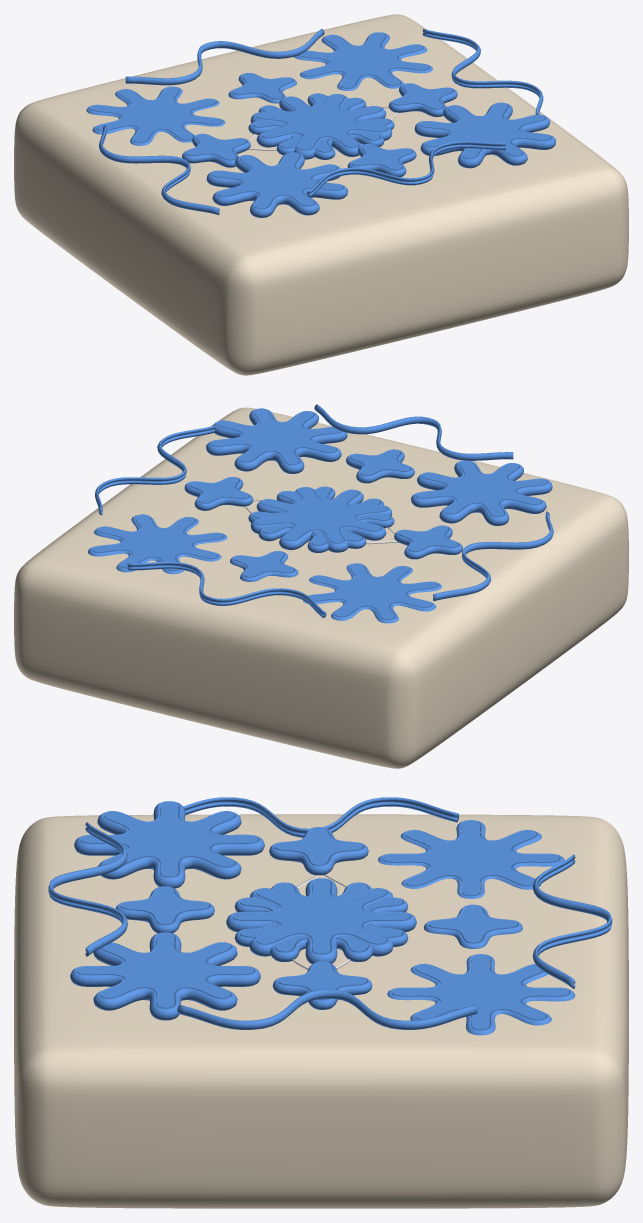
The model's file is seramikdesen1.fbx.
3 renders of one model, top to bottom at view 1: azimuth 30°, elevation 25°; view 2: azimuth 150°, elevation 25°; view 3: azimuth 270°, elevation 25°, orthographic. The views are drawn at different scales.
Visible parts, largest first — view 1: Pillow, Ornate_Pattern.001, Ornate_Pattern.002, Ornate_Pattern, Ornate_Pattern.004, Ornate_Pattern.003, Right_Border, Right_Border.001, Corner_Pattern_2.002, Corner_Pattern_2.003, Left_Border, Right_Border.002 (+6 smaller); view 2: Pillow, Ornate_Pattern.001, Ornate_Pattern.002, Ornate_Pattern, Ornate_Pattern.003, Ornate_Pattern.004, Right_Border.001, Right_Border, Corner_Pattern_2.003, Corner_Pattern_2.004, Corner_Pattern_2.002, Right_Border.002 (+6 smaller); view 3: Pillow, Ornate_Pattern.002, Ornate_Pattern.001, Ornate_Pattern, Ornate_Pattern.003, Ornate_Pattern.004, Right_Border.002, Corner_Pattern_2.003, Left_Border, Corner_Pattern_2.004, Right_Border, Right_Border.001 (+6 smaller).
Part boxes in pixels (x1,y1,x2,y2): Pillow: (14,14,628,375); Ornate_Pattern.001: (206,152,347,217); Ornate_Pattern.002: (414,102,555,168); Ornate_Pattern: (250,94,392,159); Ornate_Pattern.004: (294,32,432,90); Ornate_Pattern.003: (86,86,225,145); Right_Border: (125,29,324,85); Right_Border.001: (307,141,505,197); Corner_Pattern_2.002: (388,83,457,117); Corner_Pattern_2.003: (182,133,250,167); Left_Border: (99,125,219,214); Right_Border.002: (422,29,543,114); Pillow: (14,407,628,768); Ornate_Pattern.001: (411,460,552,525); Ornate_Pattern.002: (206,408,347,473); Ornate_Pattern: (250,487,392,552); Ornate_Pattern.003: (303,563,441,623); Ornate_Pattern.004: (88,514,227,574); Right_Border.001: (314,404,513,460); Right_Border: (127,561,326,617); Corner_Pattern_2.003: (394,525,462,559); Corner_Pattern_2.004: (346,449,414,483); Corner_Pattern_2.002: (184,477,253,510); Right_Border.002: (95,425,215,515); Pillow: (14,814,628,1208); Ornate_Pattern.002: (70,932,260,1020); Ornate_Pattern.001: (74,801,264,888); Ornate_Pattern: (226,878,416,964); Ornate_Pattern.003: (378,820,564,898); Ornate_Pattern.004: (387,954,575,1035); Right_Border.002: (177,989,477,1029); Corner_Pattern_2.003: (269,827,368,875); Left_Border: (183,797,459,837); Corner_Pattern_2.004: (116,886,214,933); Right_Border: (532,854,612,988); Right_Border.001: (48,822,127,956).
Size of the model in its own units: 2 by 0.744 by 2.
